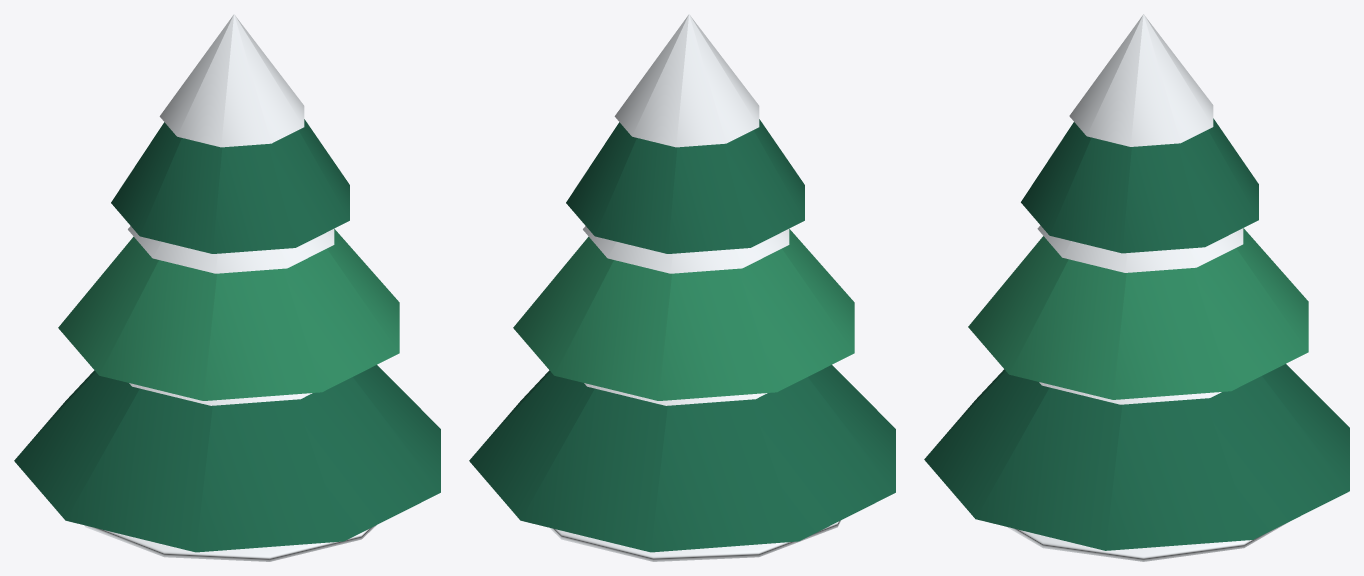
File: pine_small.glb
The picture shows the model from 3 angles, left to right: view 1: azimuth 30°, elevation 25°; view 2: azimuth 150°, elevation 25°; view 3: azimuth 270°, elevation 25°; orthographic projection.
Parts seen in each view (by area): view 1: n2222, n2224, n2226, n2227, n2225, n2228, n2223; view 2: n2222, n2224, n2226, n2227, n2225, n2228, n2223; view 3: n2222, n2224, n2226, n2227, n2225, n2228, n2223.
Boxes of the visible parts, box(x1,y1,x2,y2) form: n2222: box(14, 365, 440, 552); n2224: box(58, 229, 399, 400); n2226: box(111, 119, 349, 253); n2227: box(159, 14, 304, 147); n2225: box(128, 226, 334, 273); n2228: box(84, 525, 376, 561); n2223: box(129, 383, 312, 405); n2222: box(469, 365, 895, 552); n2224: box(513, 229, 854, 400); n2226: box(566, 119, 804, 253); n2227: box(614, 14, 759, 147); n2225: box(583, 226, 789, 273); n2228: box(549, 520, 840, 561); n2223: box(584, 383, 767, 405); n2222: box(924, 364, 1349, 550); n2224: box(968, 228, 1308, 399); n2226: box(1021, 118, 1258, 253); n2227: box(1069, 14, 1213, 146); n2225: box(1037, 225, 1243, 272); n2228: box(1007, 522, 1288, 561); n2223: box(1039, 382, 1221, 404).
Bounding box in the file's own units: 0.9602 × 1.2 × 0.9457.
